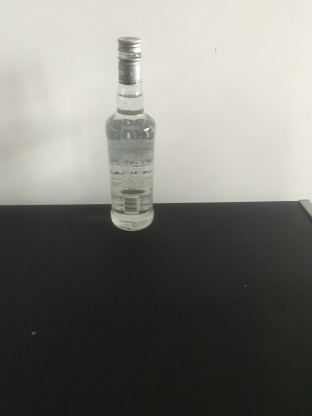nakretka: (116, 34, 142, 85)
